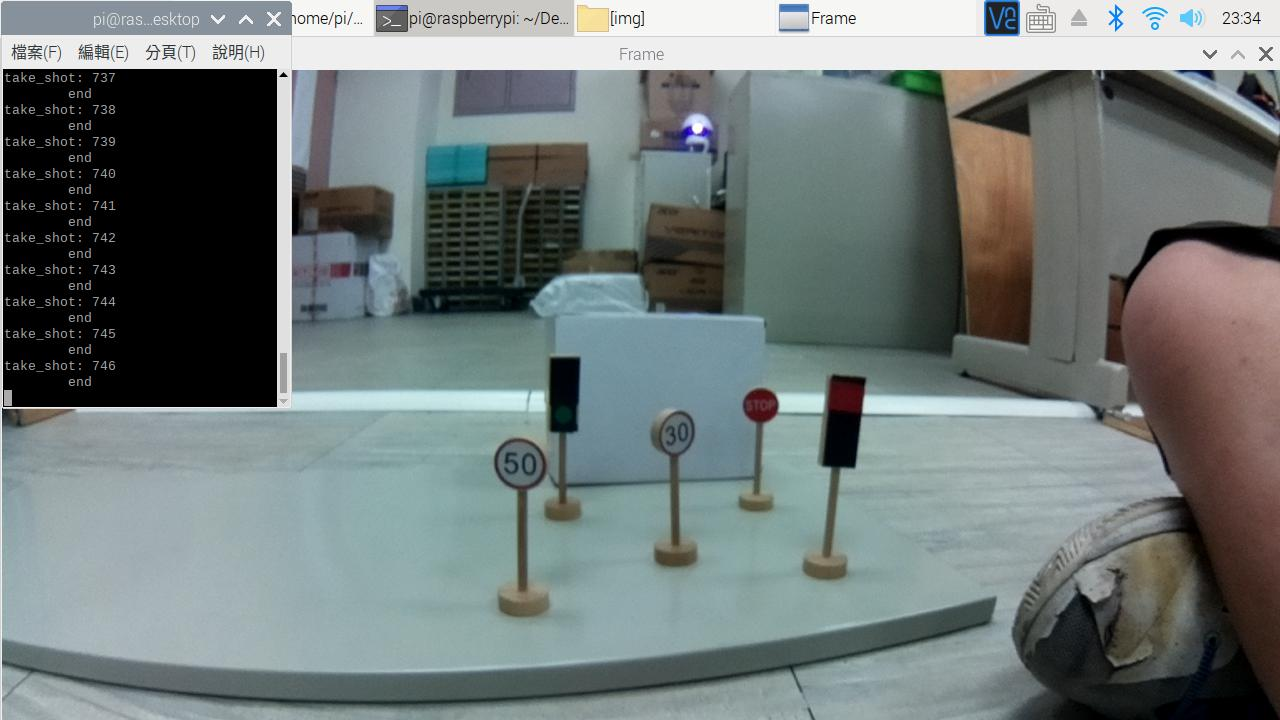Green: (534, 351, 592, 438)
Red: (805, 365, 868, 477)
Speed30: (655, 394, 696, 465)
Speed50: (486, 427, 551, 490)
Stop: (739, 378, 781, 430)
